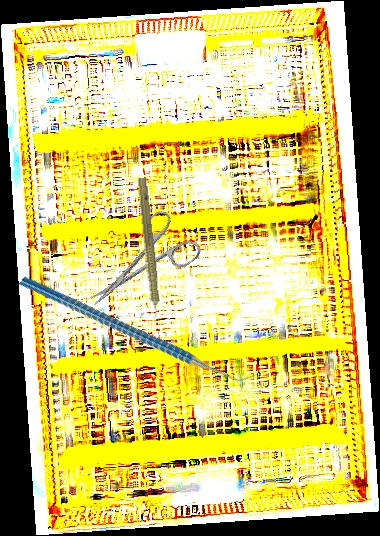Chopper: (18, 209, 259, 448)
Handpiece: (131, 177, 165, 328)
Iris Scissors: (71, 204, 205, 325)
